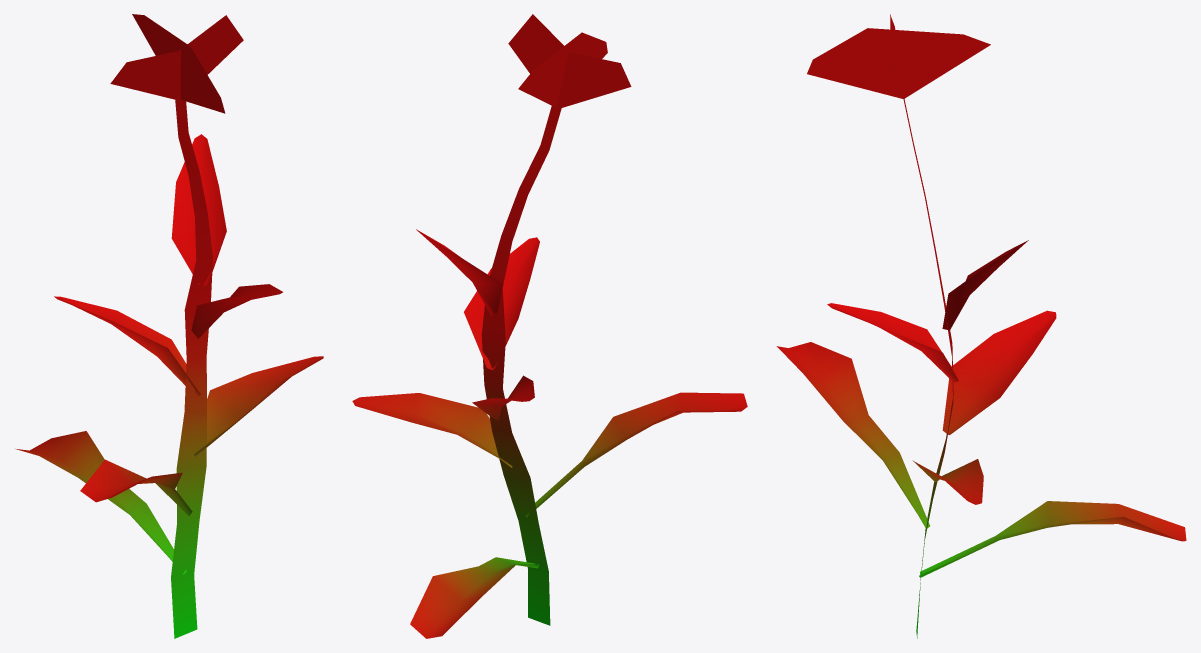
The model's file is Field Poppy_LOD3_Var12_vmcobd0ja.fbx.
3 renders of one model, left to right at view 1: azimuth 30°, elevation 25°; view 2: azimuth 150°, elevation 25°; view 3: azimuth 270°, elevation 25°, orthographic. The views are drawn at different scales.
Visible parts, largest first — view 1: _bh11_Var12_LOD3; view 2: _bh11_Var12_LOD3; view 3: _bh11_Var12_LOD3.
Boxes of the visible parts, x1=… form: _bh11_Var12_LOD3: x1=16, y1=14, x2=323, y2=638; _bh11_Var12_LOD3: x1=352, y1=14, x2=747, y2=638; _bh11_Var12_LOD3: x1=776, y1=14, x2=1186, y2=638.
Size of the model in its own units: 27.58 by 50.46 by 30.56.
